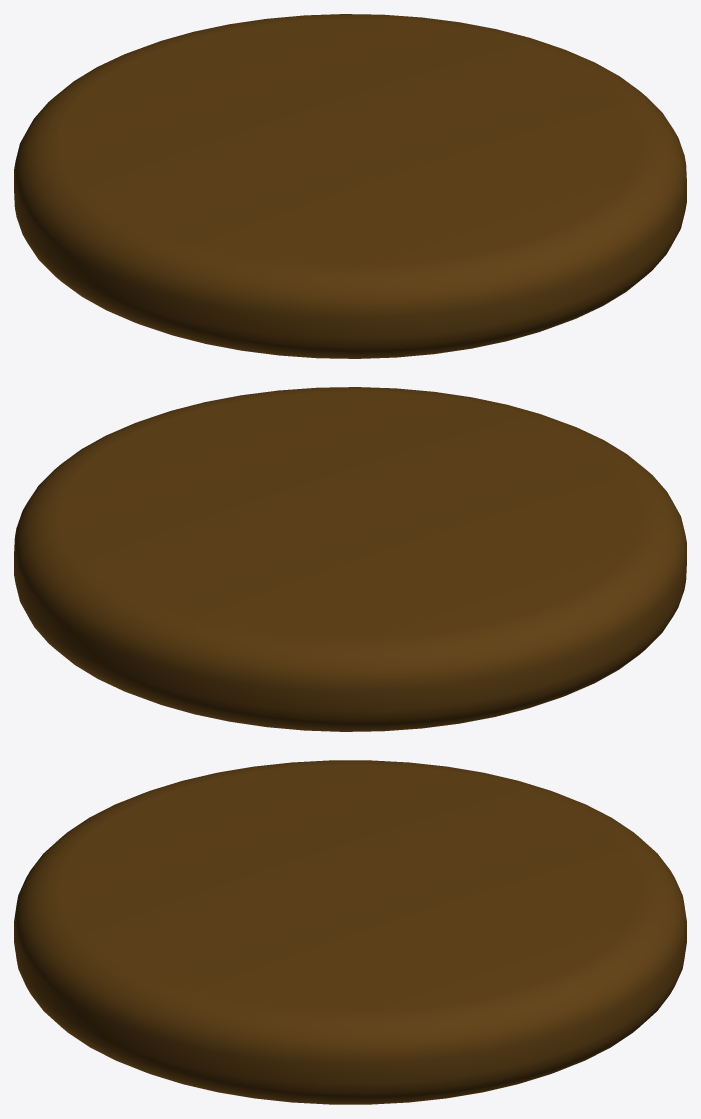
File: carne.glb
3 views of the same model, one above another, from view 1: azimuth 30°, elevation 25°; view 2: azimuth 150°, elevation 25°; view 3: azimuth 270°, elevation 25° (orthographic).
Visible parts, largest first — view 1: Cilindro; view 2: Cilindro; view 3: Cilindro.
Boxes of the visible parts, x1=… form: Cilindro: x1=14, y1=14, x2=686, y2=358; Cilindro: x1=14, y1=387, x2=686, y2=731; Cilindro: x1=14, y1=760, x2=686, y2=1104.
Bounding box in the file's own units: 3.85 × 0.5664 × 3.85.
